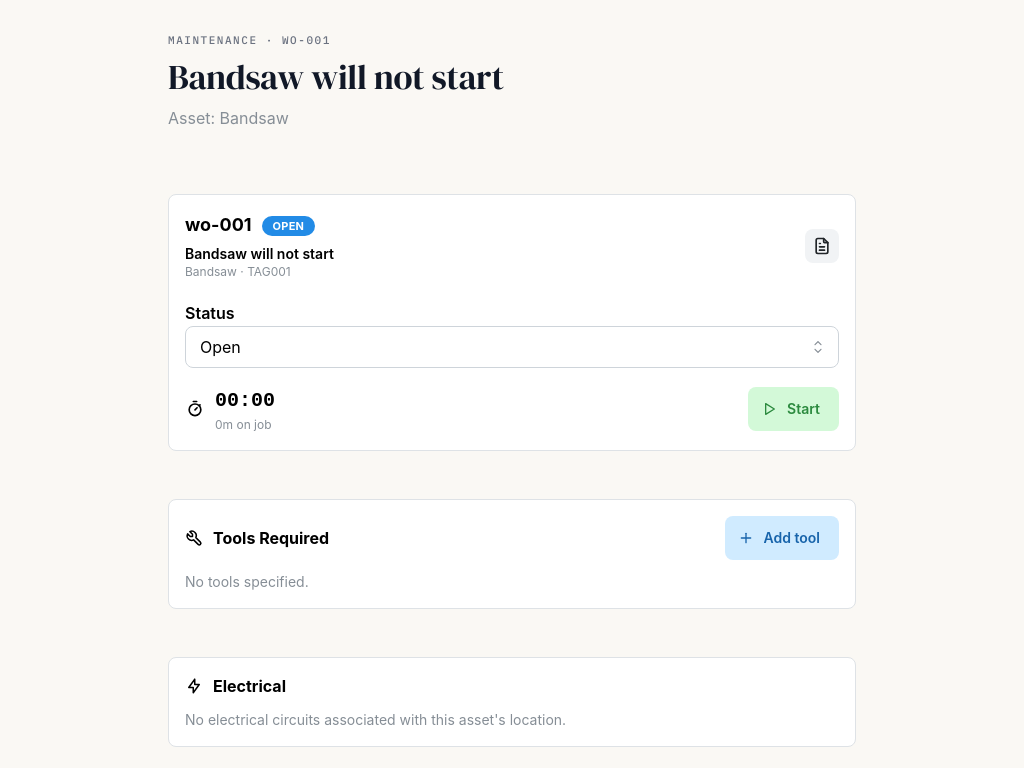
Test case: AC-22: WorkOrderPage adds ad-hoc tools › adds a tool from the Tools Required section and shows it
Click the button "Add tool": (782, 538) [724,516,839,560]
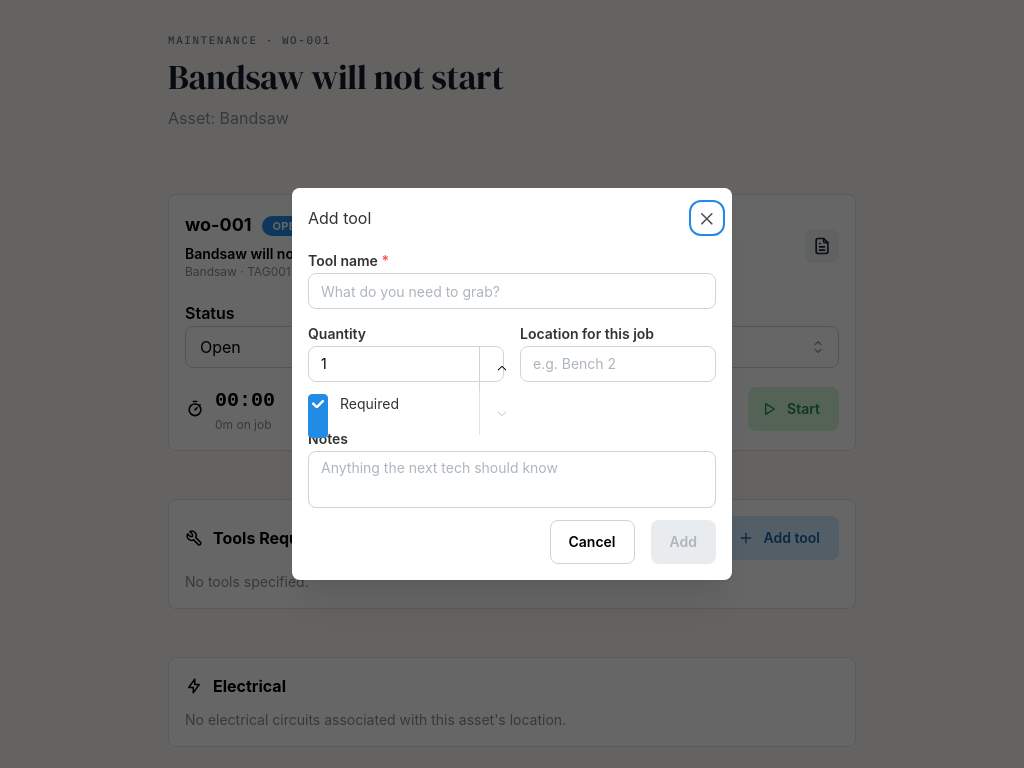
Result: the field labelled "Tool name *" is shown
In the field labelled "Tool name *": (512, 291) [308,273,716,309], type "Bearing puller"
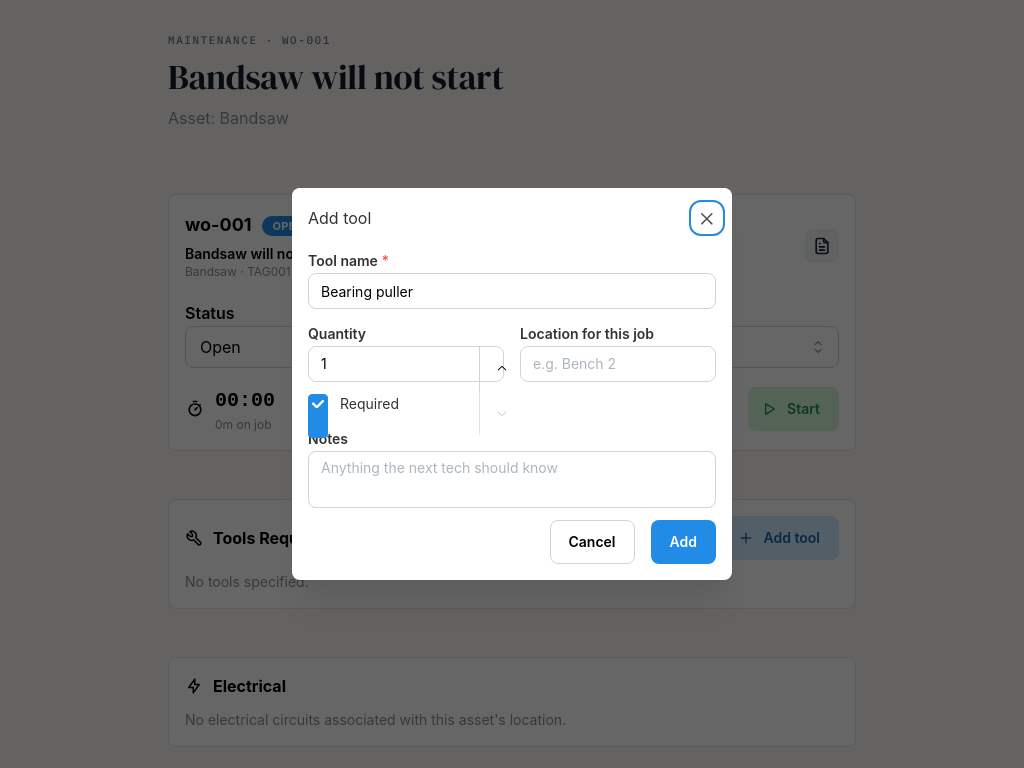
Replace the text in the field labelled "Quantity" with "2": (406, 364) [308,346,504,382]
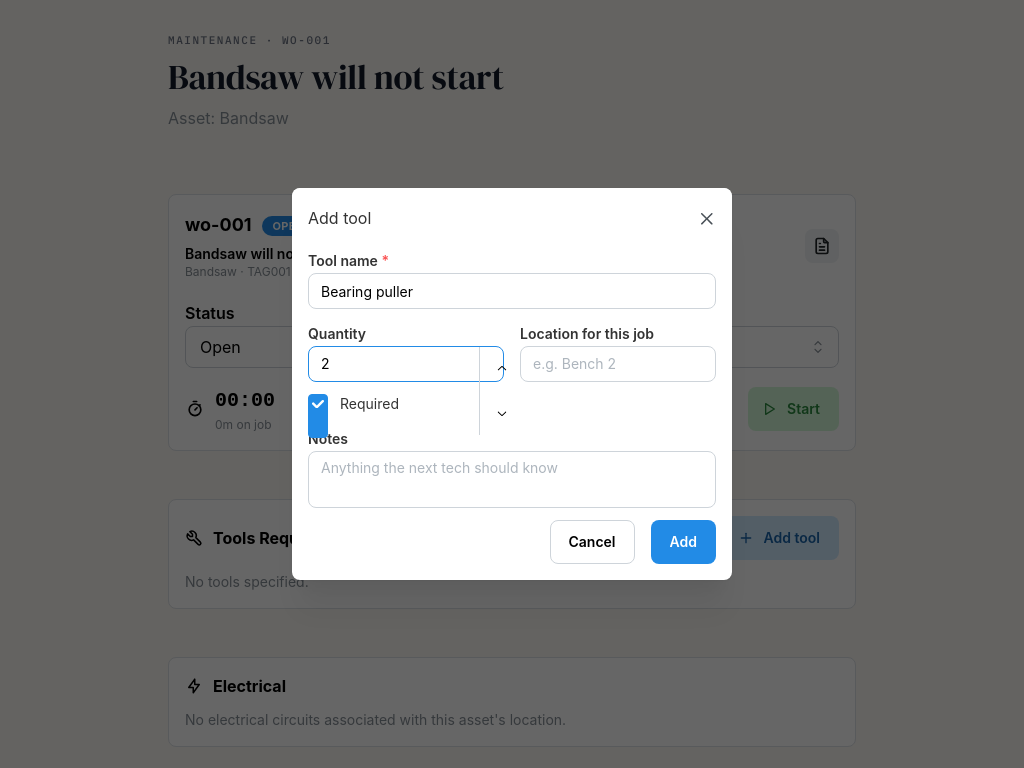
In the field labelled "Location for this job": (618, 364) [520,346,716,382], type "Bench 2"
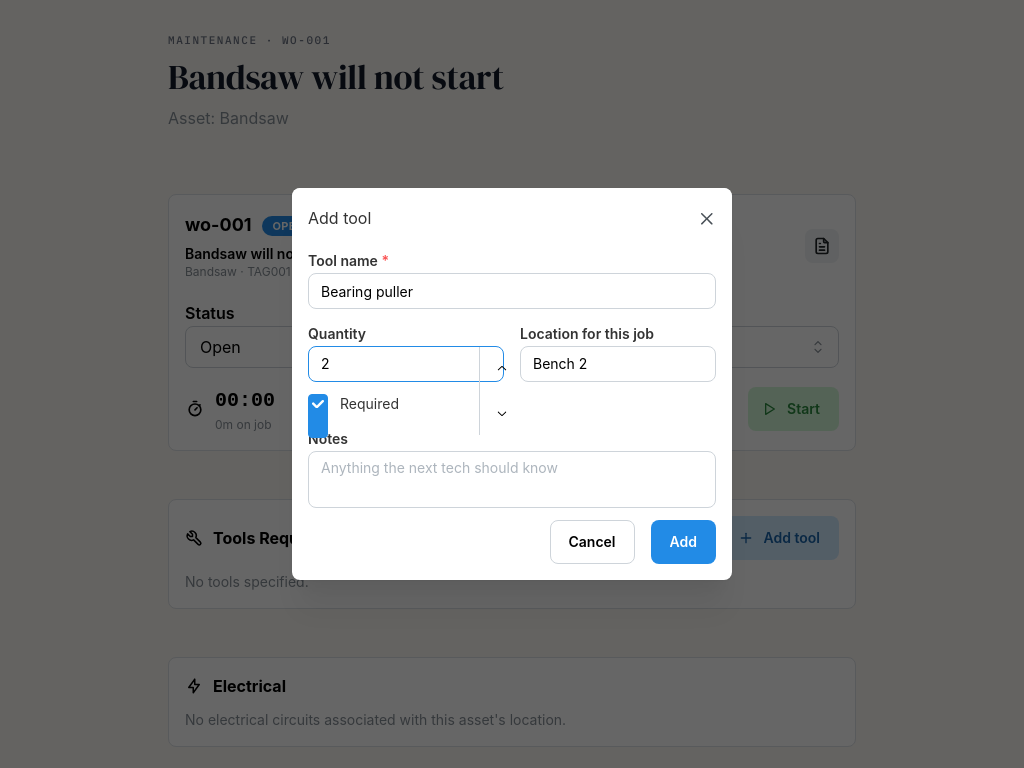
In the text box labelled "Notes": (512, 479) [308,451,716,508], type "Three-jaw"
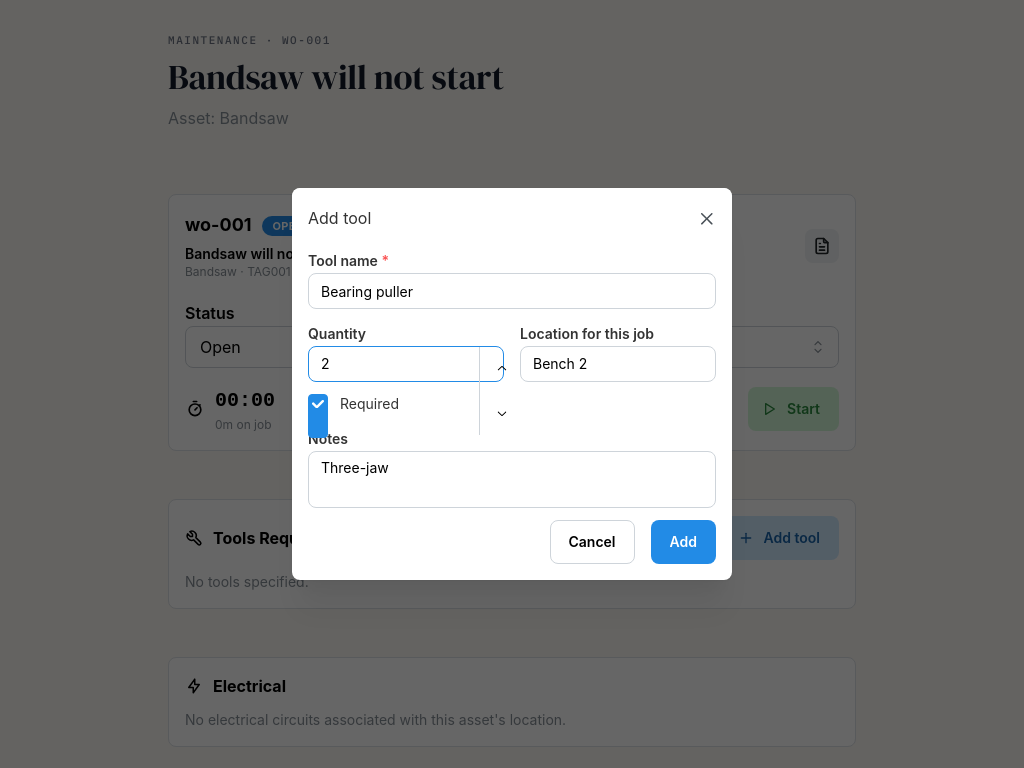
Click the button "Add": (683, 542) [650,520,716,564]
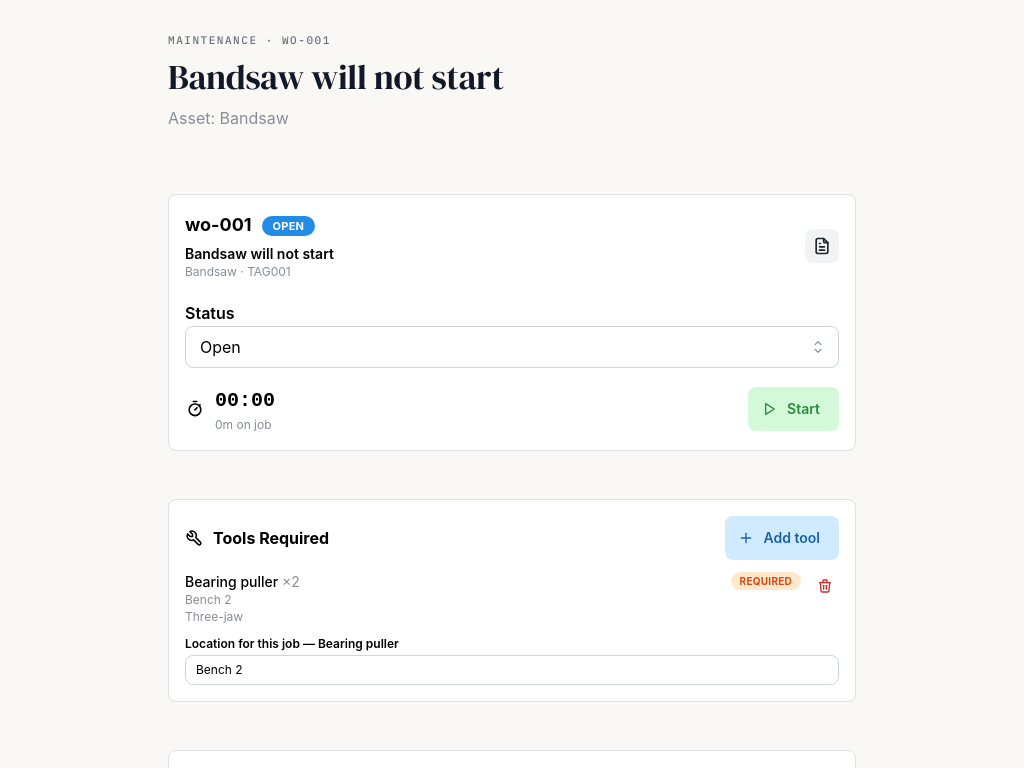
Result: the text "Bearing puller" is shown at [185,573,278,590]
Result: the text "×2" is shown at [282,573,300,590]
Result: the text "Bench 2" is shown at [185,592,232,607]
